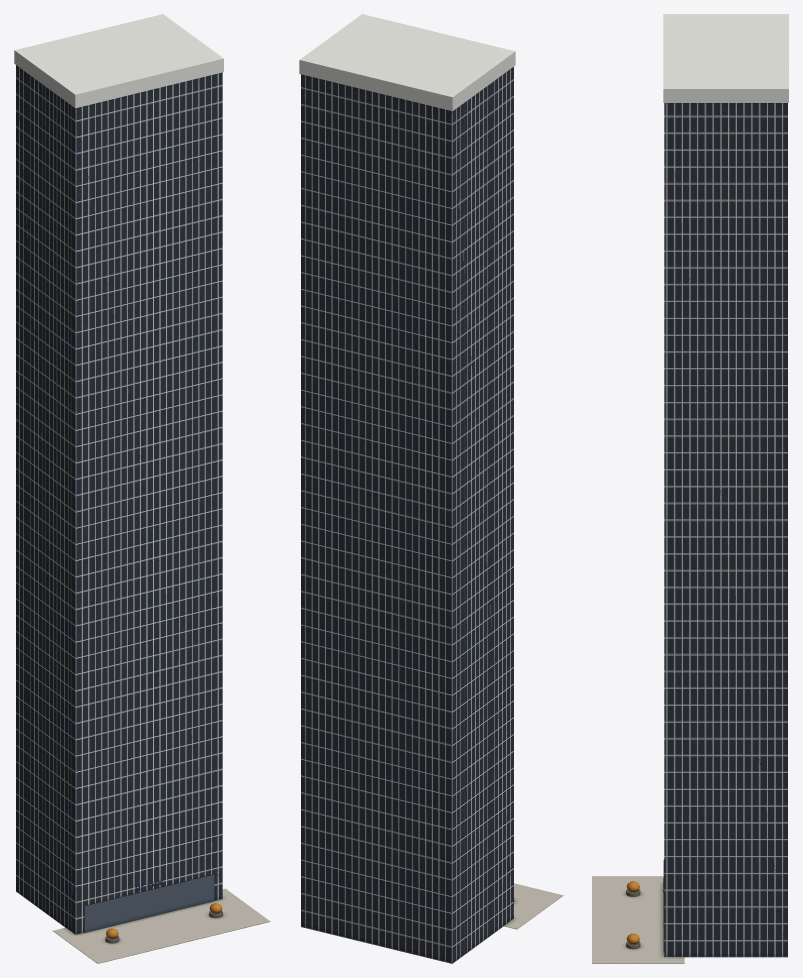
The model's file is us_bank_center.glb.
3 views of the same model, side by side, from view 1: azimuth 30°, elevation 25°; view 2: azimuth 150°, elevation 25°; view 3: azimuth 270°, elevation 25° (orthographic). The views are drawn at different scales.
Parts seen in each view (by area): view 1: us_bank_center; view 2: us_bank_center; view 3: us_bank_center.
Part boxes in pixels (<box>): us_bank_center: <box>14,14,270,963</box>; us_bank_center: <box>299,14,563,963</box>; us_bank_center: <box>592,14,788,963</box>.
Size of the model in its own units: 40 by 186 by 38.2.
Materials: 1 (1 with a texture image).
